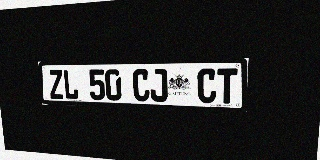0: (105, 69, 122, 101)
5: (89, 69, 106, 100)
C: (197, 68, 217, 103), (132, 69, 150, 101)
J: (150, 69, 168, 102)
L: (63, 70, 79, 100)
T: (217, 68, 238, 104)
Z: (48, 70, 64, 99)
